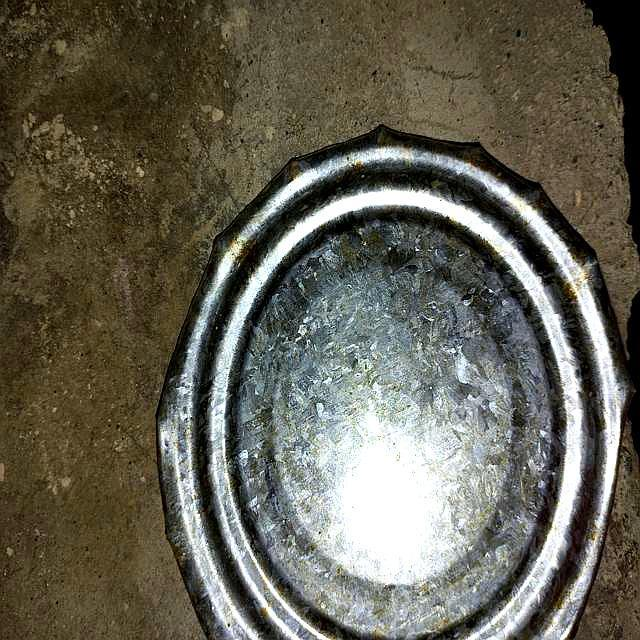Non-biodegradable: (154, 123, 634, 640)
